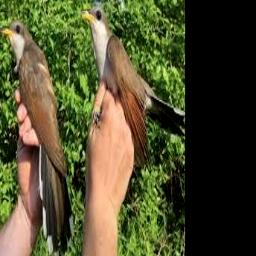Cuckoo: (82, 5, 185, 171), (2, 20, 72, 255)
